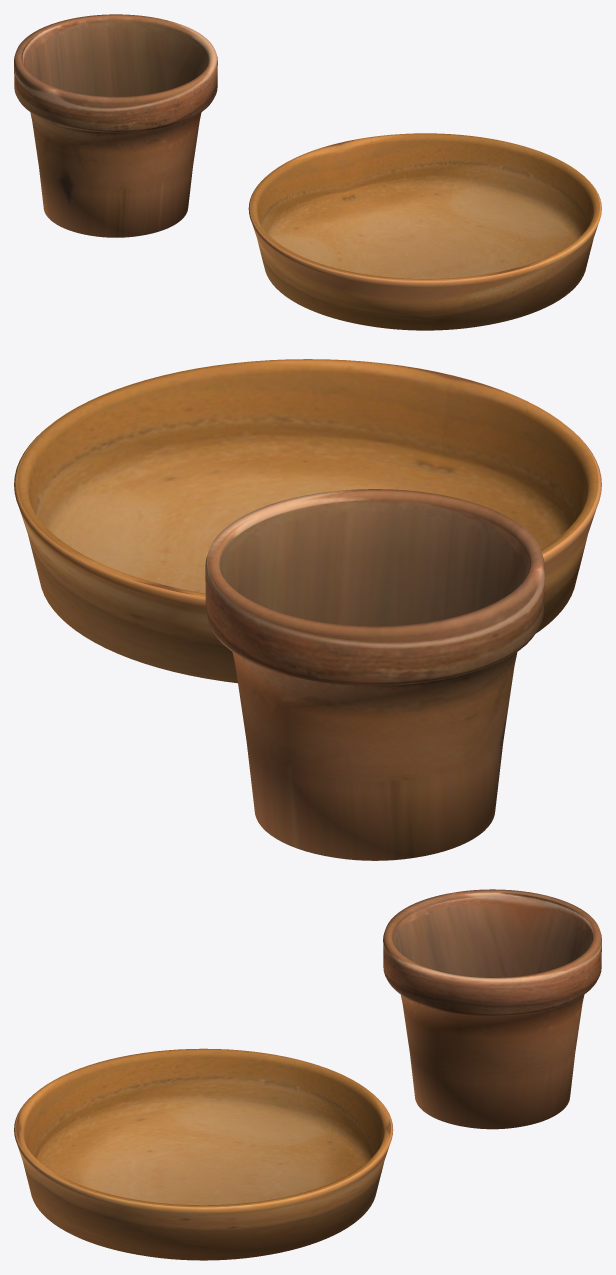
The model's file is vaso_e_prato_23_01_web.glb.
3 renders of one model, top to bottom at view 1: azimuth 30°, elevation 25°; view 2: azimuth 150°, elevation 25°; view 3: azimuth 270°, elevation 25°, orthographic. The views are drawn at different scales.
Parts seen in each view (by area): view 1: Prato_de_Barro, Vaso_de_Barro; view 2: Prato_de_Barro, Vaso_de_Barro; view 3: Prato_de_Barro, Vaso_de_Barro.
Part boxes in pixels (left/top/right/bottom): Prato_de_Barro: left=248, top=133, right=601, bottom=330; Vaso_de_Barro: left=14, top=14, right=217, bottom=237; Prato_de_Barro: left=14, top=359, right=601, bottom=683; Vaso_de_Barro: left=205, top=489, right=544, bottom=860; Prato_de_Barro: left=14, top=1048, right=393, bottom=1260; Vaso_de_Barro: left=383, top=889, right=601, bottom=1129.
Bounding box in the file's own units: 0.2856 × 0.1001 × 0.3256.
3 materials, 2 textured.
